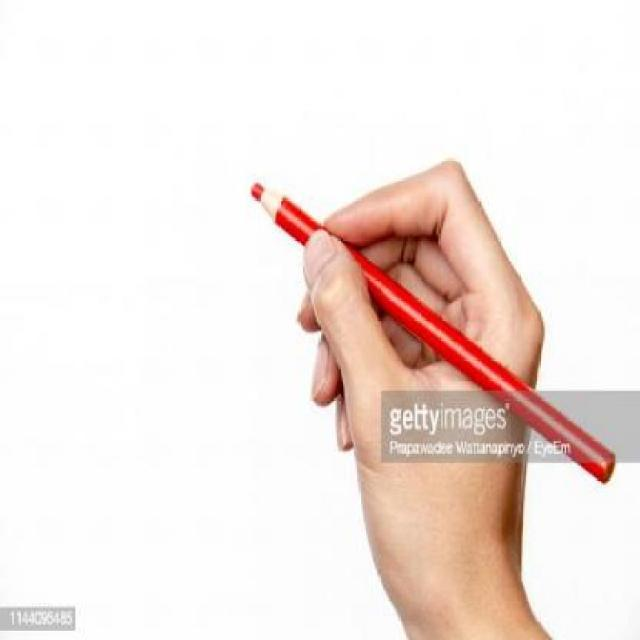pencil: (244, 162, 296, 236)
